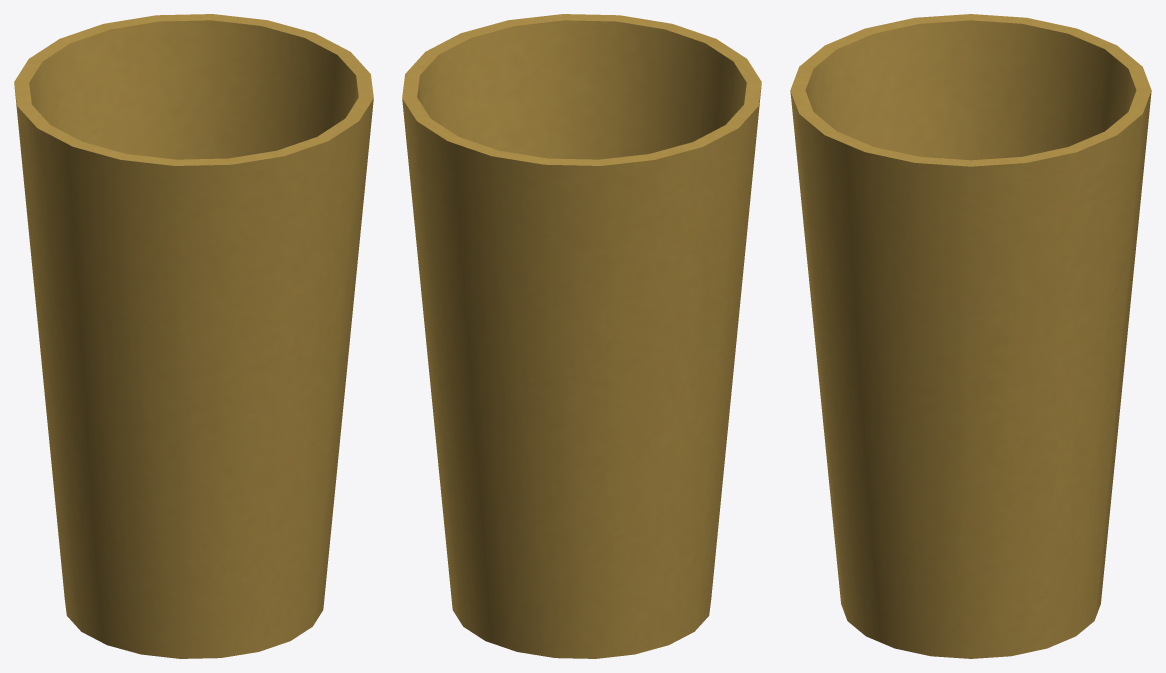
Rendered from Glass.fbx.
3 renders of one model, left to right at view 1: azimuth 30°, elevation 25°; view 2: azimuth 150°, elevation 25°; view 3: azimuth 270°, elevation 25°, orthographic.
Visible parts, largest first — view 1: Glass; view 2: Glass; view 3: Glass.
Boxes of the visible parts, <box> form: Glass: <box>14,14,373,658</box>; Glass: <box>402,14,761,658</box>; Glass: <box>790,14,1151,658</box>.
Size of the model in its own units: 7.64 by 11.99 by 7.64.
